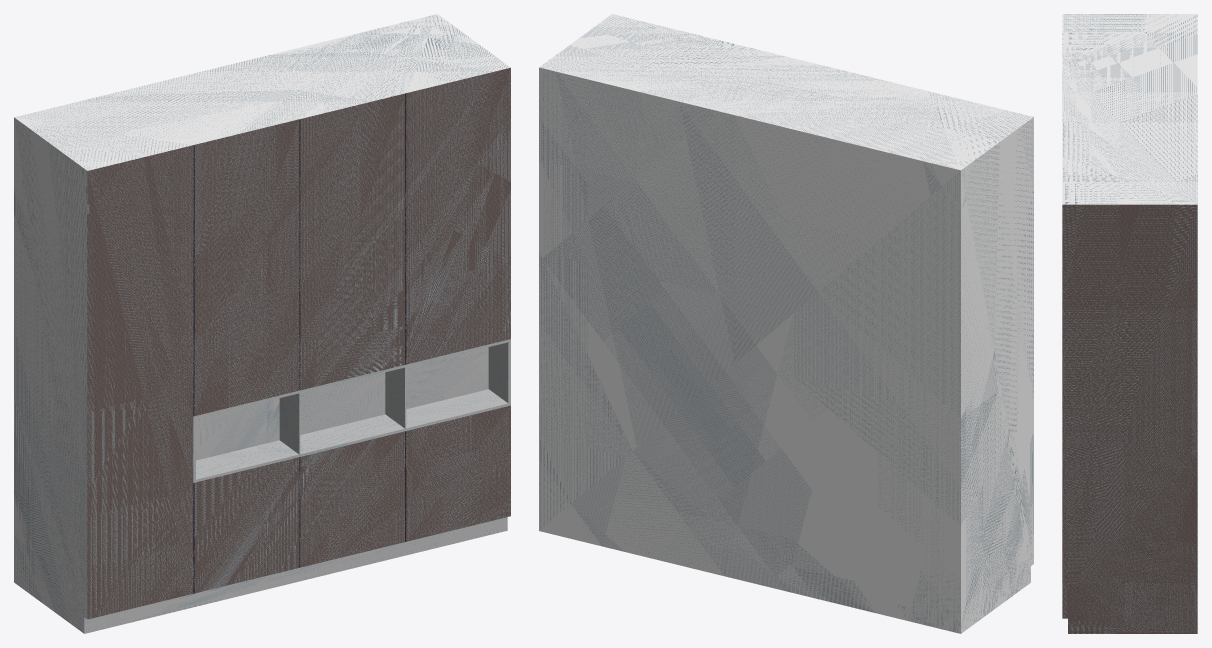
3 views of the same model, side by side, from view 1: azimuth 30°, elevation 25°; view 2: azimuth 150°, elevation 25°; view 3: azimuth 270°, elevation 25° (orthographic). The views are drawn at different scales.
Parts seen in each view (by area): view 1: SketchUp (×12); view 2: SketchUp; view 3: SketchUp (×2).
Part boxes in pixels (left/top/right/bottom): SketchUp (×12): left=14, top=14, right=510, bottom=633; SketchUp: left=539, top=14, right=1033, bottom=633; SketchUp (×2): left=1062, top=14, right=1197, bottom=633.
Bounding box in the file's own units: 78.74 × 23.62 × 82.68.
